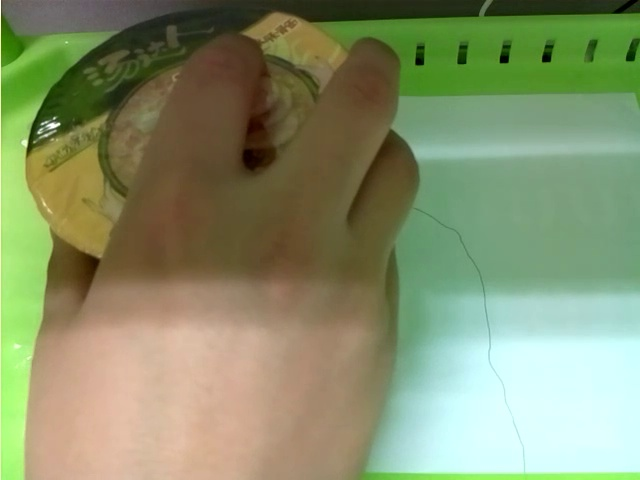hand: (24, 33, 419, 479)
noodles: (32, 4, 368, 250)
